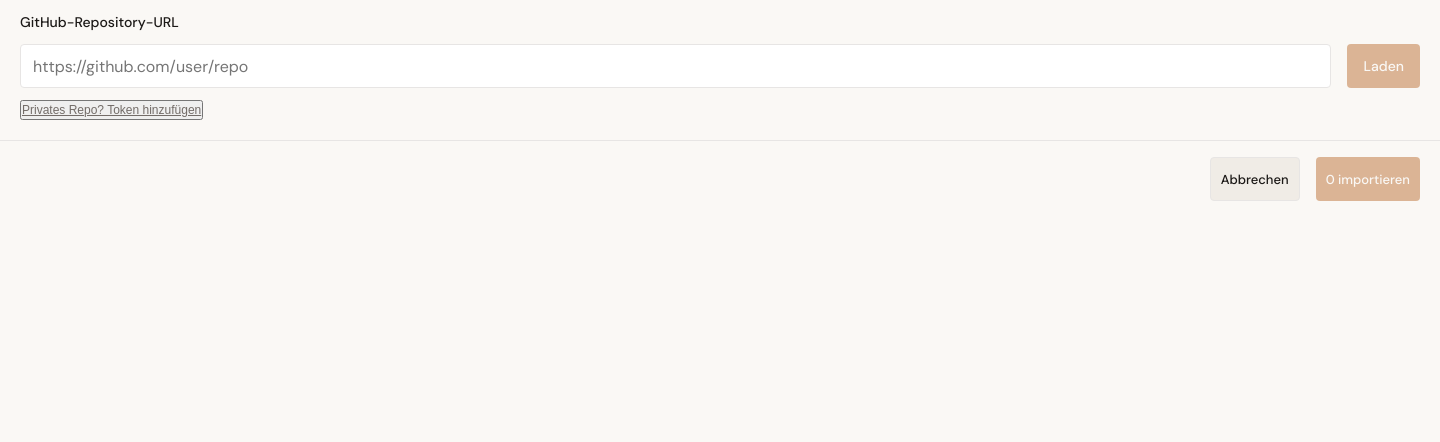
Test: GitHubImportTab token handling (#880) › fills the token field from the stored token once it has loaded
The width and height of the screenshot is (1440, 442).
Click the button with test id "github-import-token-section-toggle" at (112, 110), box [20,100,203,120]
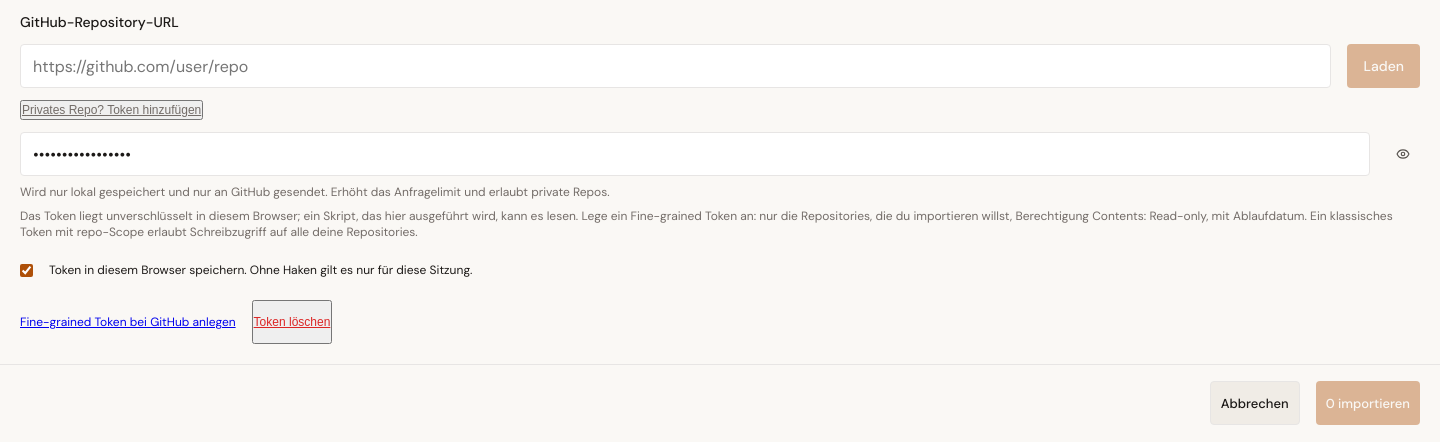
Expected: the field with test id "github-import-token" holds "github_pat_stored", [20,132,1370,176]
